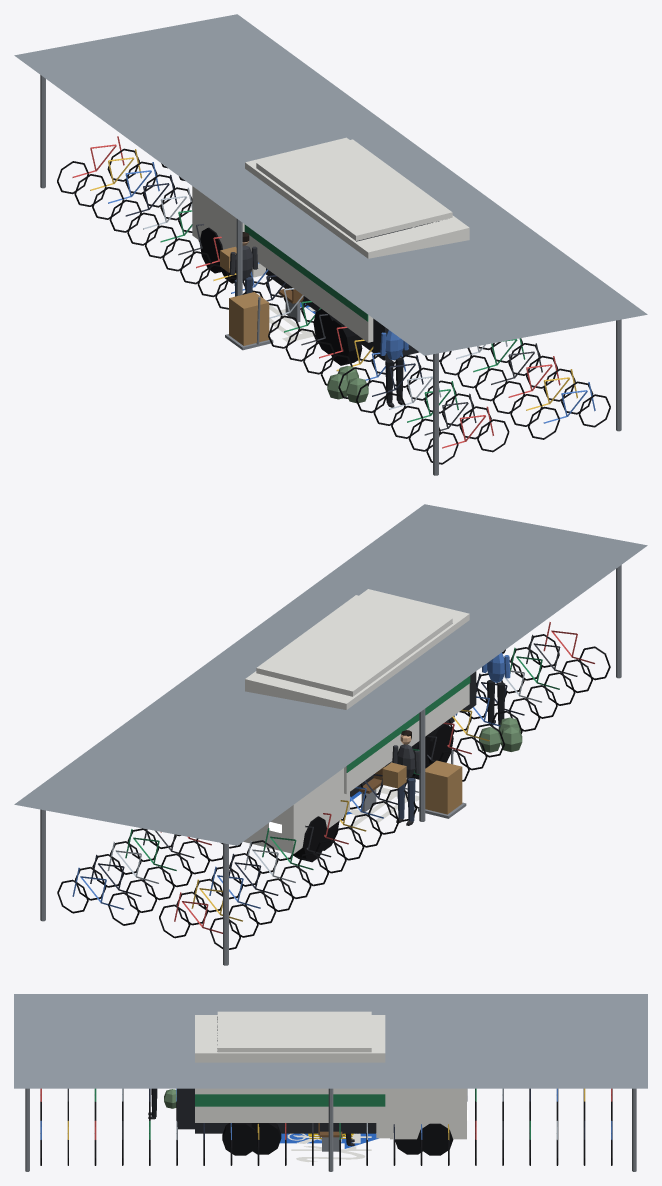
Rendered from city3.glb.
3 renders of one model, top to bottom at view 1: azimuth 30°, elevation 25°; view 2: azimuth 150°, elevation 25°; view 3: azimuth 270°, elevation 25°, orthographic. The views are drawn at different scales.
Visible parts, largest first — view 1: C3_BikePark, C3_Delivery, C3_Garbage; view 2: C3_BikePark, C3_Delivery, C3_Garbage; view 3: C3_BikePark, C3_Garbage, C3_Delivery, C3_Tomare, C3_BikeMark, C3_Bench.
Part boxes in pixels (left/top/right/bottom): C3_BikePark: left=14, top=14, right=647, bottom=475; C3_Delivery: left=220, top=139, right=452, bottom=354; C3_Garbage: left=192, top=137, right=469, bottom=407; C3_BikePark: left=14, top=504, right=647, bottom=965; C3_Delivery: left=256, top=595, right=466, bottom=850; C3_Garbage: left=243, top=589, right=522, bottom=862; C3_BikePark: left=14, top=994, right=647, bottom=1171; C3_Garbage: left=148, top=1015, right=468, bottom=1155; C3_Delivery: left=217, top=1011, right=422, bottom=1154; C3_Tomare: left=291, top=1133, right=371, bottom=1162; C3_BikeMark: left=280, top=1133, right=378, bottom=1148; C3_Bench: left=318, top=1123, right=354, bottom=1151.
Size of the model in its own units: 4.4 by 2.62 by 14.
